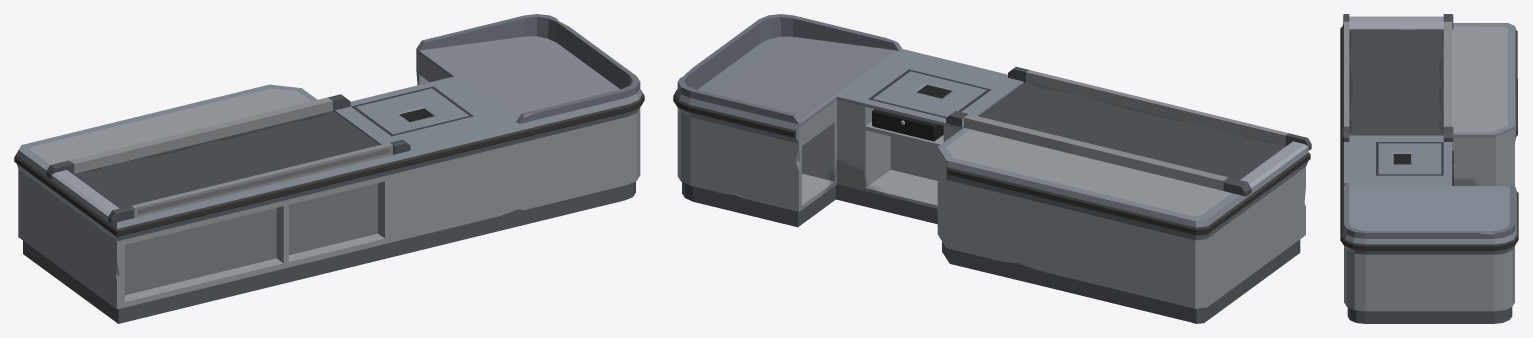
Rendered from SM_Prop_Market_Checkout_Large_01.obj.
The picture shows the model from 3 angles, left to right: view 1: azimuth 30°, elevation 25°; view 2: azimuth 150°, elevation 25°; view 3: azimuth 270°, elevation 25°; orthographic projection. The views are drawn at different scales.
Parts seen in each view (by area): view 1: SM_Prop_Market_Checkout_Large_01_0; view 2: SM_Prop_Market_Checkout_Large_01_0; view 3: SM_Prop_Market_Checkout_Large_01_0.
Part boxes in pixels (box(x1,y1,x2,y2)): SM_Prop_Market_Checkout_Large_01_0: box(14, 14, 644, 323); SM_Prop_Market_Checkout_Large_01_0: box(673, 14, 1311, 323); SM_Prop_Market_Checkout_Large_01_0: box(1340, 14, 1518, 323).
Size of the model in its own units: 4.72 by 0.9499 by 1.62.
Materials: 1 (1 with a texture image).
